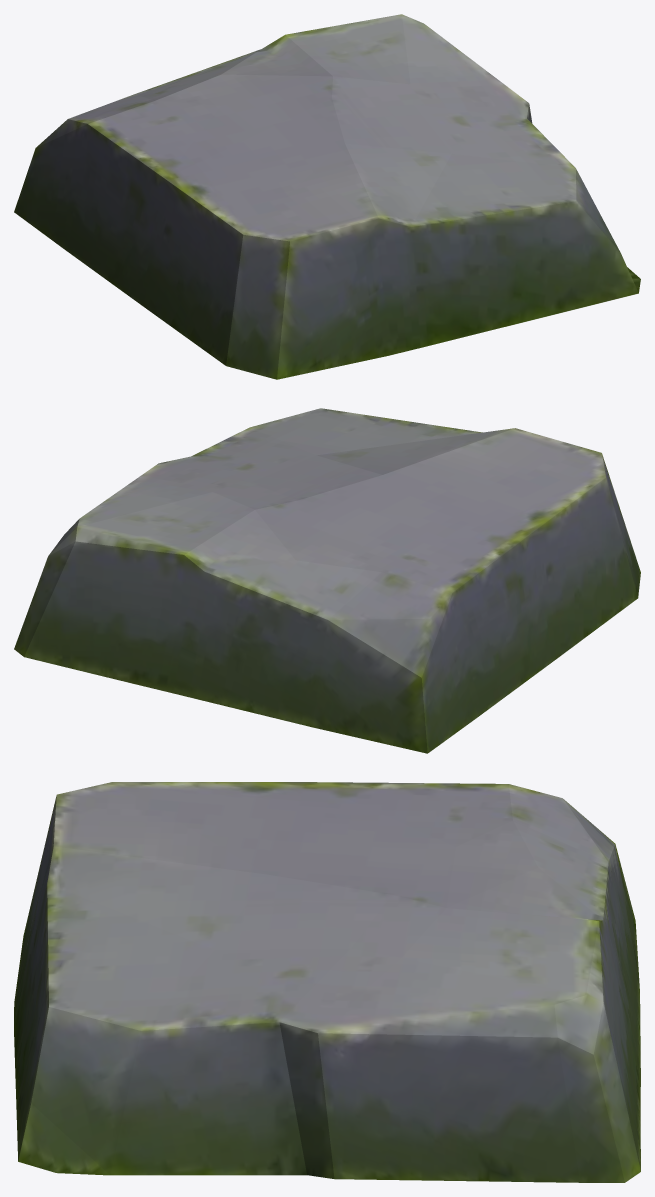
File: Pebble_Square_1.gltf
3 renders of one model, top to bottom at view 1: azimuth 30°, elevation 25°; view 2: azimuth 150°, elevation 25°; view 3: azimuth 270°, elevation 25°, orthographic. The views are drawn at different scales.
Visible parts, largest first — view 1: Pebble_Square_1; view 2: Pebble_Square_1; view 3: Pebble_Square_1.
Boxes of the visible parts, <box> form: Pebble_Square_1: <box>14,14,640,379</box>; Pebble_Square_1: <box>14,408,640,753</box>; Pebble_Square_1: <box>14,782,640,1182</box>.
Size of the model in its own units: 0.4347 by 0.1299 by 0.4396.
1 material, 1 textured.
